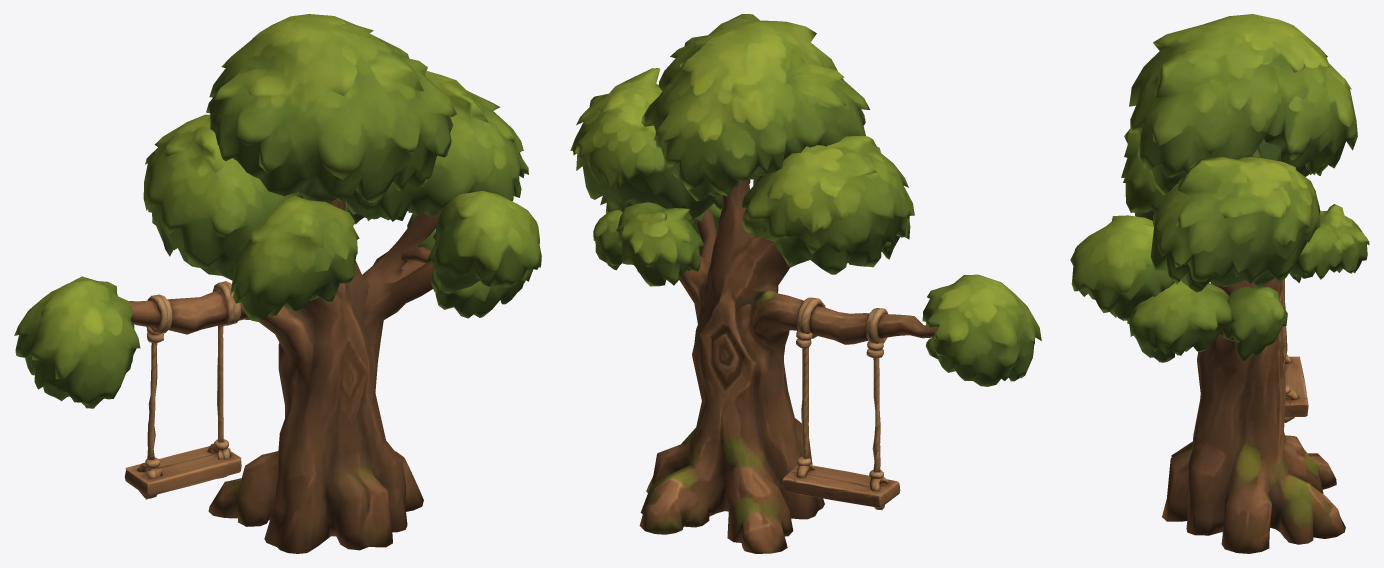
File: arbre_balancelle.glb
3 renders of one model, left to right at view 1: azimuth 30°, elevation 25°; view 2: azimuth 150°, elevation 25°; view 3: azimuth 270°, elevation 25°, orthographic. The views are drawn at different scales.
Parts seen in each view (by area): view 1: geometry_0; view 2: geometry_0; view 3: geometry_0.
Part boxes in pixels (x1,y1,x2,y2): geometry_0: (14,14,541,553); geometry_0: (570,14,1041,553); geometry_0: (1070,14,1369,553).
Bounding box in the file's own units: 0.9512 × 0.9536 × 0.5361.
1 material, 1 textured.
